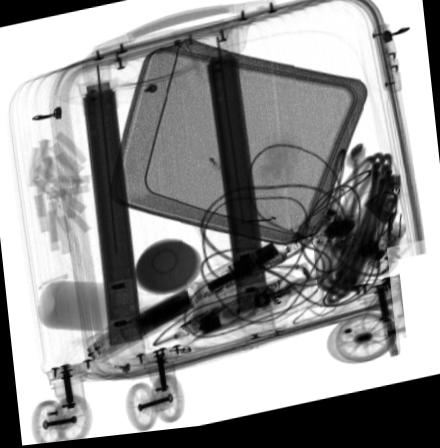Baton: (84, 246, 288, 363)
